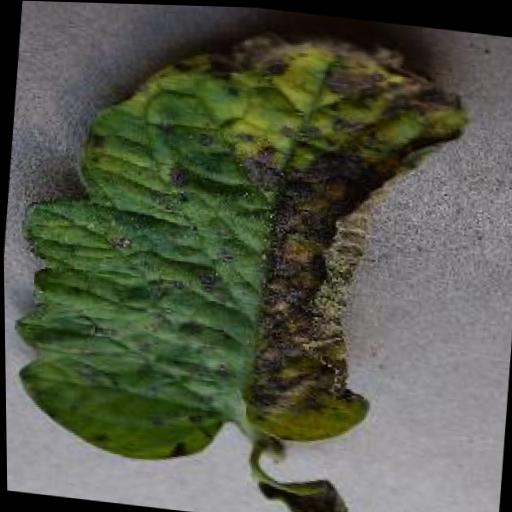Early Blight: (0, 0, 476, 512)
